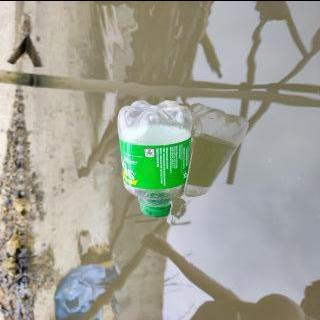bottle: (114, 98, 195, 218)
